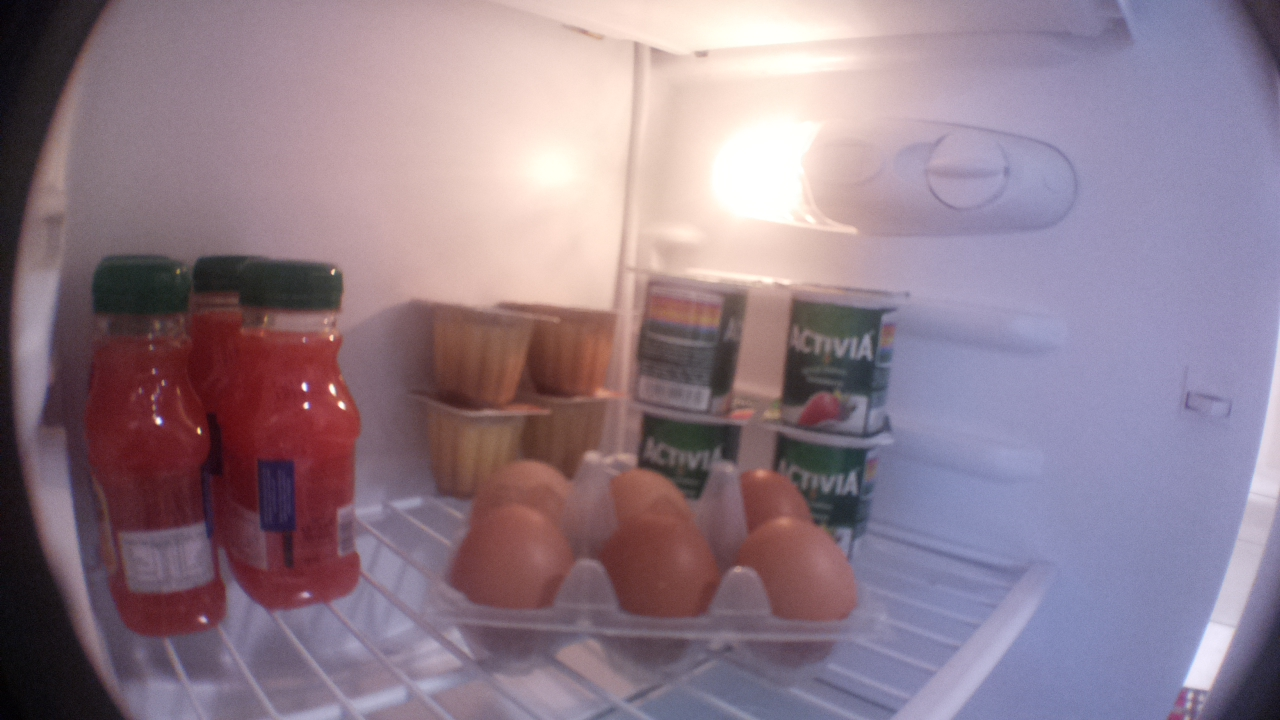caramel: (414, 284, 559, 409), (407, 386, 550, 499), (511, 293, 653, 401), (520, 381, 635, 480)
egg: (442, 504, 576, 660), (737, 518, 866, 666), (598, 521, 727, 666), (593, 468, 706, 523), (470, 458, 583, 511), (720, 470, 816, 531)
juice: (213, 252, 370, 613), (88, 267, 231, 637), (193, 248, 241, 418)
yoghurt: (760, 281, 933, 441), (624, 266, 766, 413), (766, 431, 907, 566), (636, 409, 752, 496)
